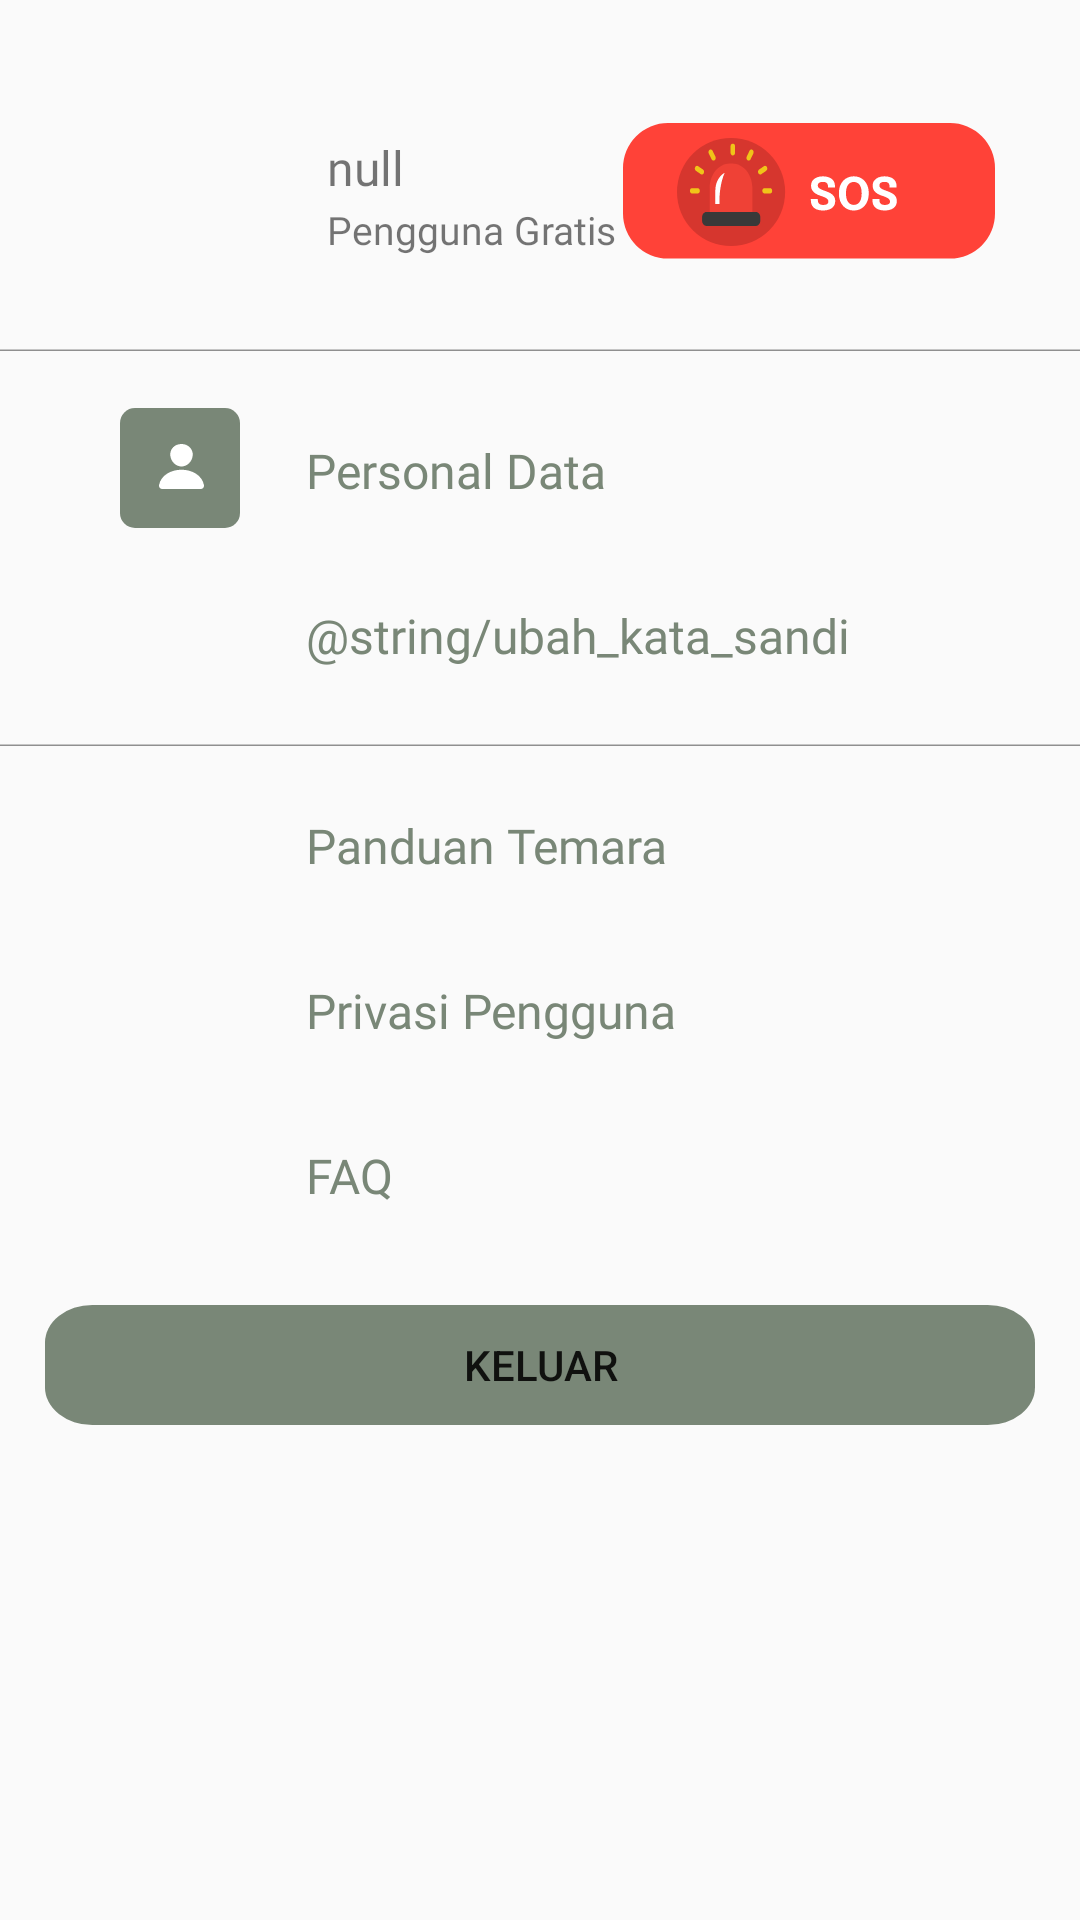

Icons on this 1080px×1920px Android screen, each with its box as (x1,y1,x2,y2):
recperson: (120,408,240,528)
